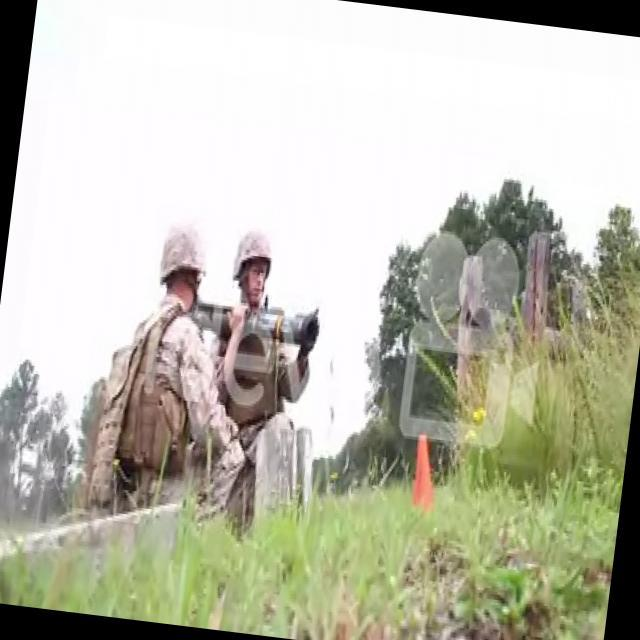rocket: (202, 296, 322, 358)
